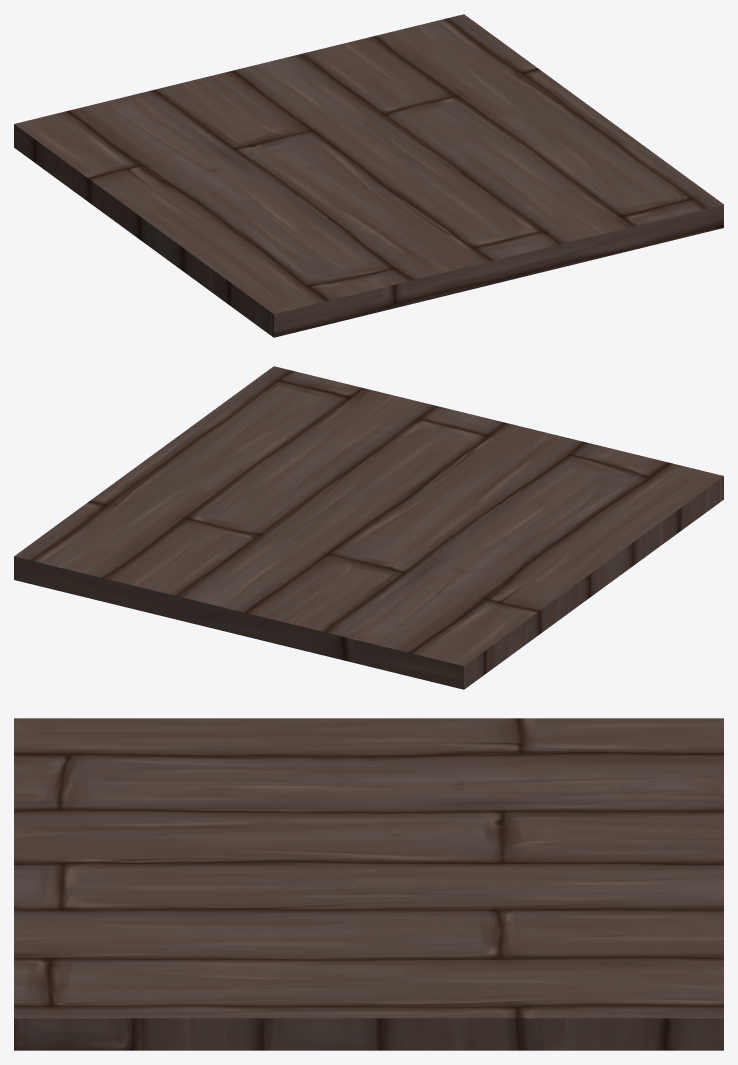
The model's file is House_ModulesFloorfbx 1.fbx.
3 views of the same model, one above another, from view 1: azimuth 30°, elevation 25°; view 2: azimuth 150°, elevation 25°; view 3: azimuth 270°, elevation 25° (orthographic). The views are drawn at different scales.
Visible parts, largest first — view 1: Floor2; view 2: Floor2; view 3: Floor2.
Boxes of the visible parts, x1,y1,x2,y2 form: Floor2: (14,14,723,337); Floor2: (14,366,723,689); Floor2: (14,718,723,1050).
Size of the model in its own units: 2 by 0.1 by 2.
